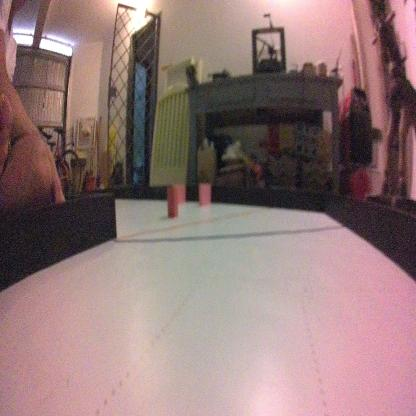magenta: (173, 181, 186, 208), (198, 182, 210, 206)
red: (164, 174, 178, 219)
